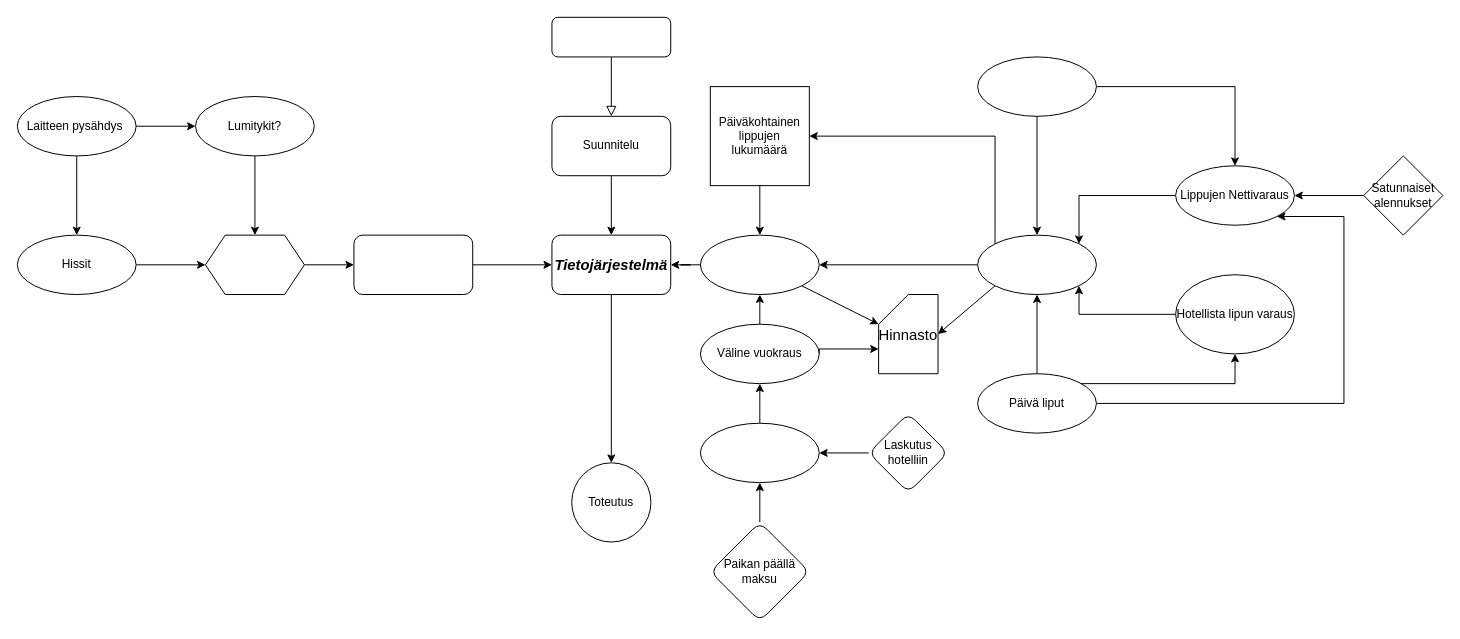
Image size: 1460x639. Some labels were removed from this diagram. Here are the shapes that lost their labels. From the top down, the centre of each, then its label:
At point 611,36: "Kysely".
At point 1036,86: "Kerta lippu".
At point 254,264: "Raportit".
At point 413,264: "Tiedot laitteistosta".
At point 759,264: "Varauksien tiedot".
At point 1036,264: "Liput".
At point 759,452: "Välineitten tiedot!".
